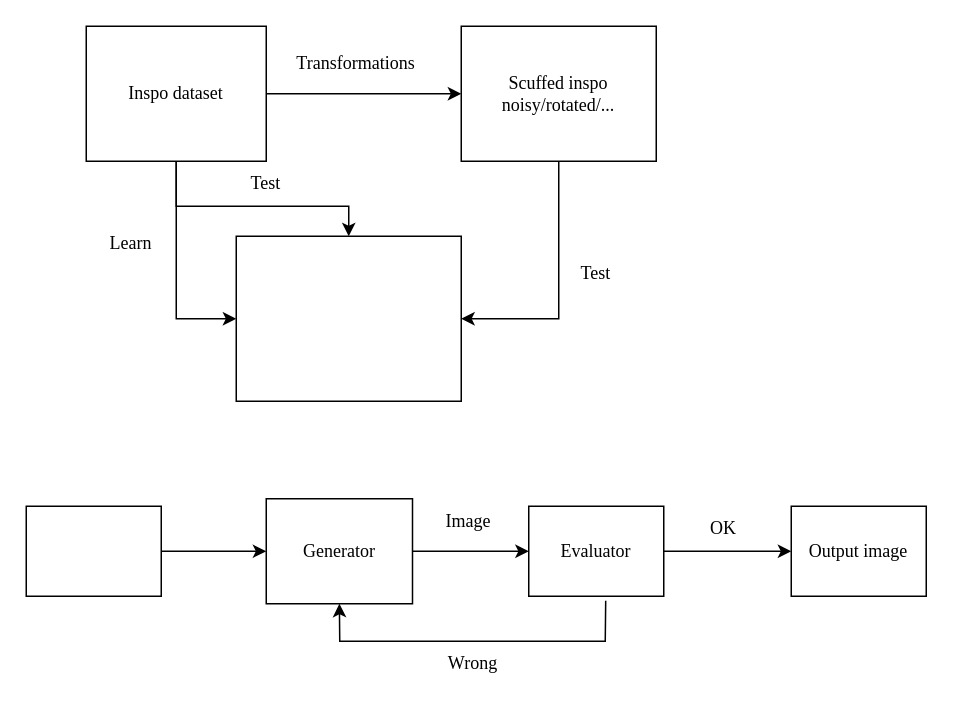
Some shapes in this 953 by 713 pixel diagram are drawn without their labels. The centre of each missing label's shape, as x and y in pixels:
Evaluator output = legit / not: the point at 348,318
Random noise: the point at 93,550
